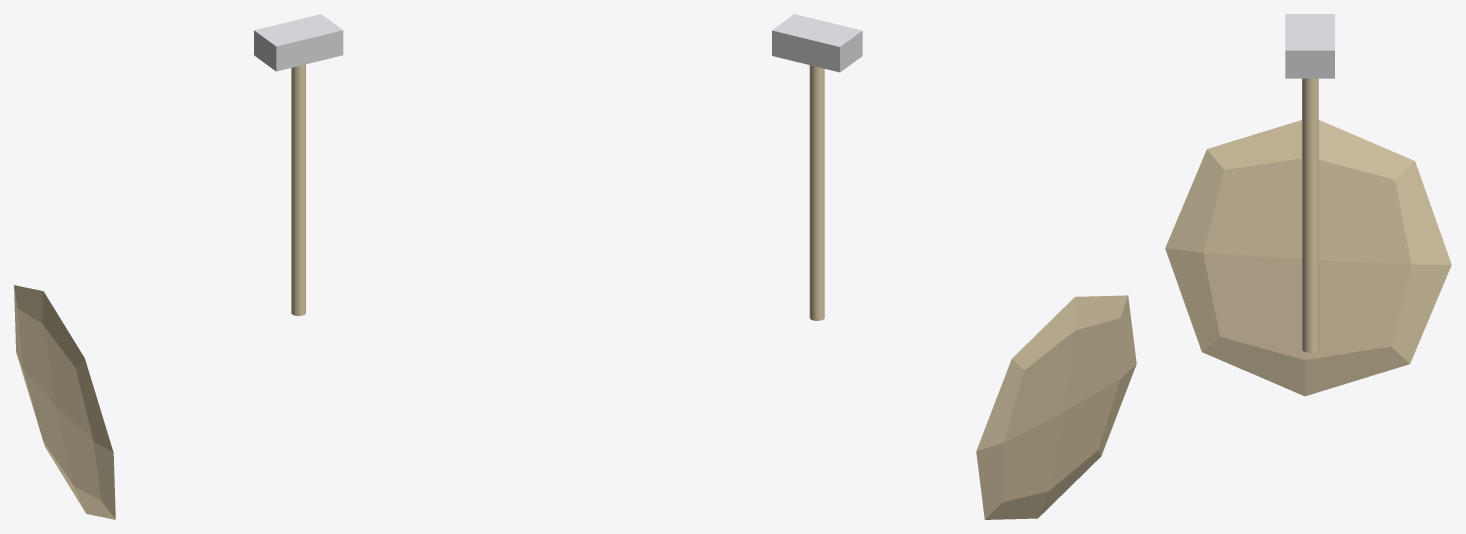
The model's file is hanger_unit.glb.
3 renders of one model, left to right at view 1: azimuth 30°, elevation 25°; view 2: azimuth 150°, elevation 25°; view 3: azimuth 270°, elevation 25°, orthographic. The views are drawn at different scales.
Parts seen in each view (by area): view 1: Hanger_Bar, Hanger_Trolley, Hanger_Drop_Stem; view 2: Hanger_Bar, Hanger_Drop_Stem, Hanger_Trolley; view 3: Hanger_Bar, Hanger_Drop_Stem, Hanger_Trolley.
Part boxes in pixels (x1,y1,x2,y2): Hanger_Bar: [14, 285, 115, 519]; Hanger_Trolley: [254, 14, 343, 71]; Hanger_Drop_Stem: [291, 64, 305, 315]; Hanger_Bar: [976, 295, 1136, 519]; Hanger_Drop_Stem: [809, 65, 824, 320]; Hanger_Trolley: [772, 14, 862, 72]; Hanger_Bar: [1165, 120, 1451, 396]; Hanger_Drop_Stem: [1302, 78, 1318, 352]; Hanger_Trolley: [1285, 14, 1334, 78].
Bounding box in the file's own units: 0.9463 × 0.7711 × 0.4159.
